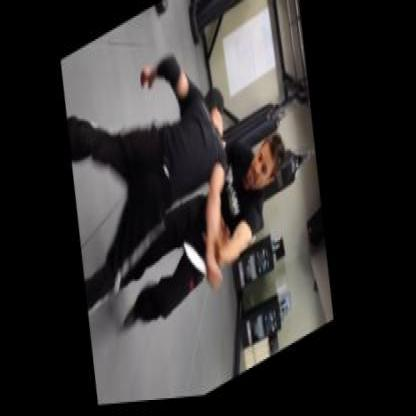knife: (180, 220, 231, 310)
